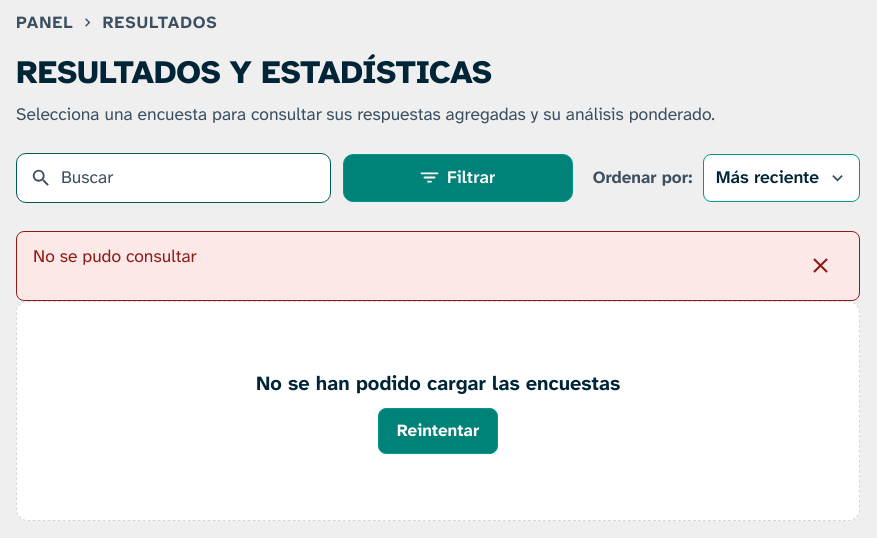
Test: ResultsPage › permite reintentar la carga después de un error
Click the button "Reintentar".
click(438, 431)  # box x1=378 y1=408 x2=498 y2=454
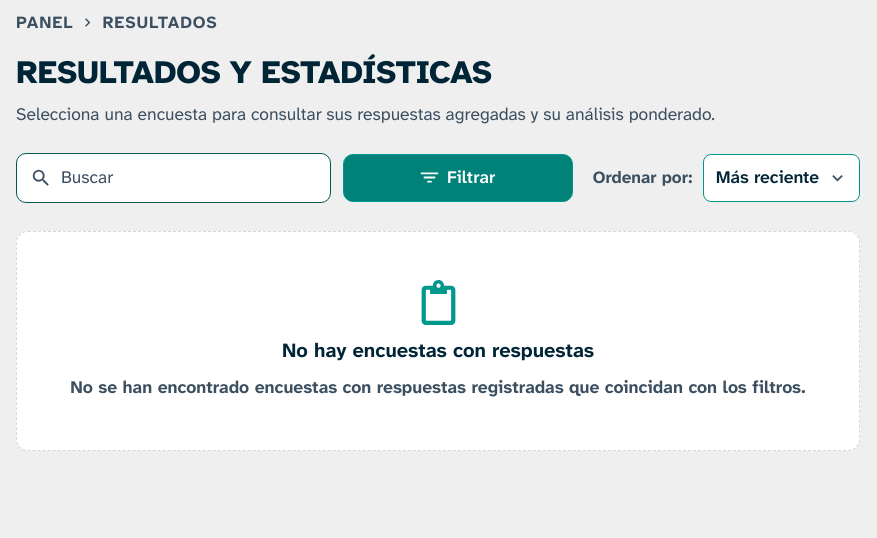
Result: the heading "No hay encuestas con respuestas" is shown at x1=282 y1=335 x2=594 y2=365
